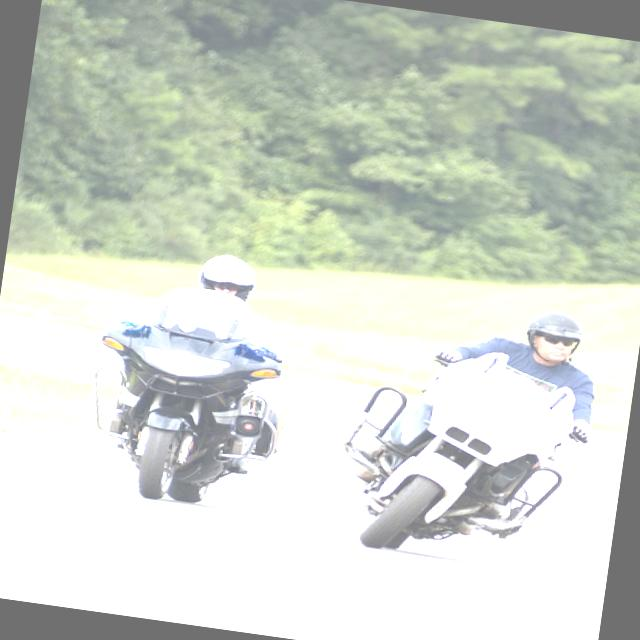Vehicle: (328, 333, 614, 592), (76, 279, 306, 520)
